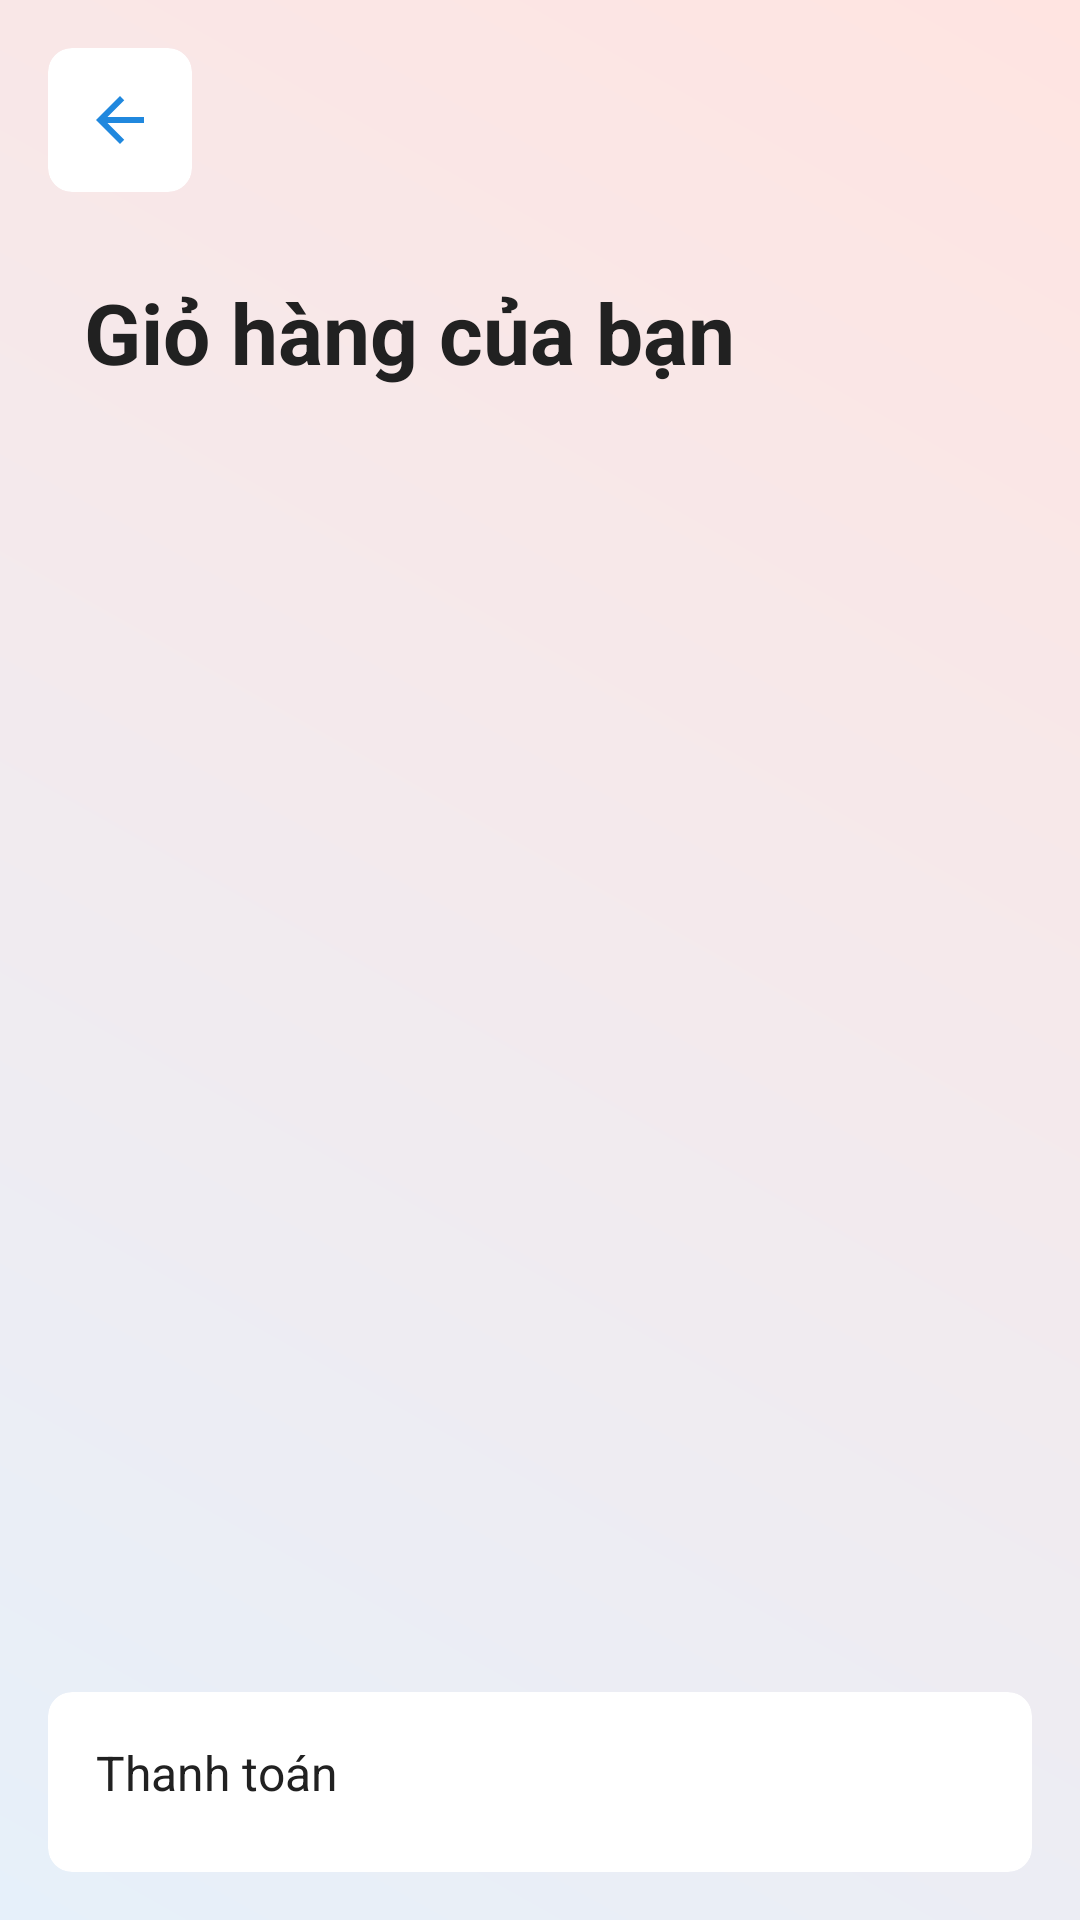

Locate icon controls on the screen. Image size 1080*1920, boxes as (x1, y1, x2, y2).
Quay lại: (48, 48, 192, 192)
